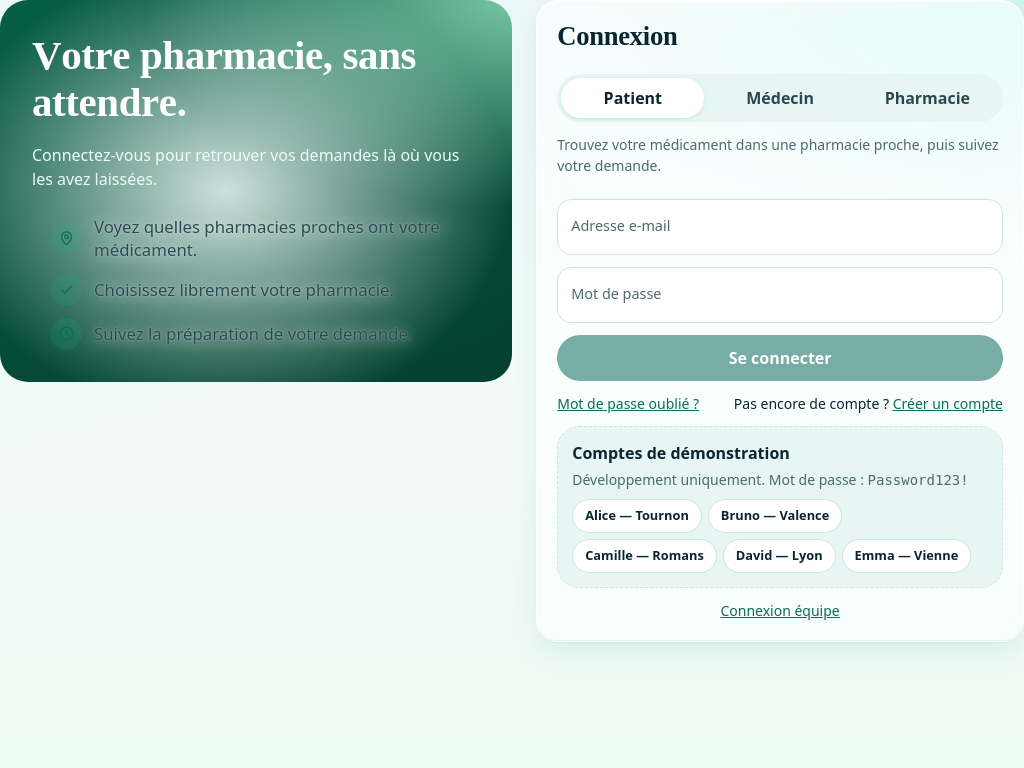
login page › shows role tabs, the staff link and the dev-only demo panel
Expected: the tab "Patient" is shown, [561,78,704,118]
Expected: the tab "Médecin" is shown, [708,78,852,118]
Click the button "Alice — Tournon". click: click(637, 516)
box: [572,499,702,533]
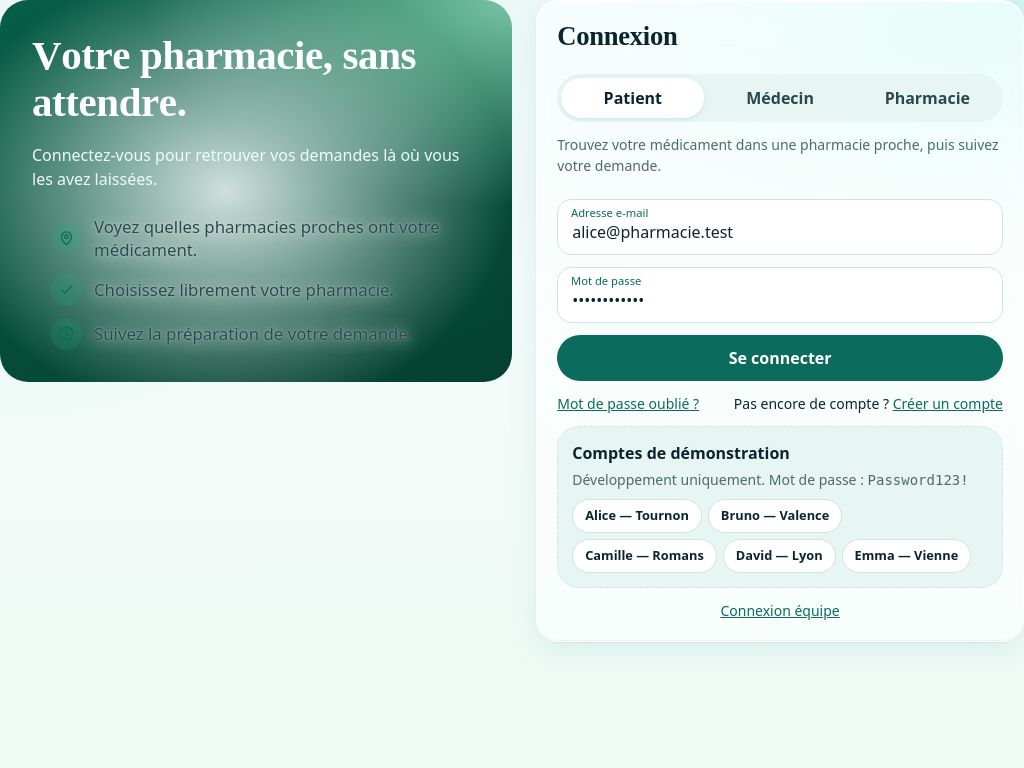
Expected: the field labelled "Adresse e-mail" holds "alice@pharmacie.test", [557,199,1003,255]
